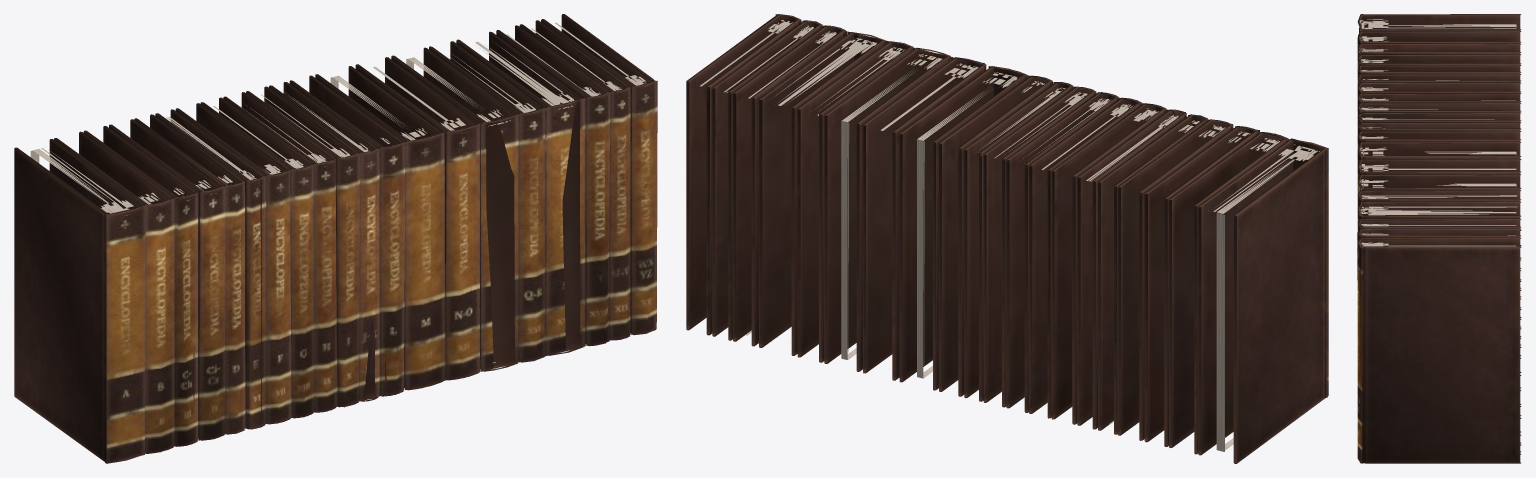
The model's file is book_encyclopedia_set_01_leve.gltf.
3 renders of one model, left to right at view 1: azimuth 30°, elevation 25°; view 2: azimuth 150°, elevation 25°; view 3: azimuth 270°, elevation 25°, orthographic. The views are drawn at different scales.
Parts seen in each view (by area): view 1: book_encyclopedia_set_01_book01, book_encyclopedia_set_01_book13, book_encyclopedia_set_01_book17, book_encyclopedia_set_01_book15, book_encyclopedia_set_01_book14, book_encyclopedia_set_01_book02, book_encyclopedia_set_01_book04, book_encyclopedia_set_01_book20, book_encyclopedia_set_01_book16, book_encyclopedia_set_01_book18, book_encyclopedia_set_01_book07, book_encyclopedia_set_01_book12 (+8 smaller); view 2: book_encyclopedia_set_01_book01, book_encyclopedia_set_01_book13, book_encyclopedia_set_01_book15, book_encyclopedia_set_01_book17, book_encyclopedia_set_01_book14, book_encyclopedia_set_01_book02, book_encyclopedia_set_01_book04, book_encyclopedia_set_01_book16, book_encyclopedia_set_01_book20, book_encyclopedia_set_01_book07, book_encyclopedia_set_01_book18, book_encyclopedia_set_01_book12 (+8 smaller); view 3: book_encyclopedia_set_01_book20, book_encyclopedia_set_01_book13, book_encyclopedia_set_01_book17, book_encyclopedia_set_01_book01, book_encyclopedia_set_01_book15, book_encyclopedia_set_01_book14, book_encyclopedia_set_01_book02, book_encyclopedia_set_01_book16, book_encyclopedia_set_01_book07, book_encyclopedia_set_01_book12, book_encyclopedia_set_01_book03, book_encyclopedia_set_01_book04 (+8 smaller).
Boxes of the visible parts, x1,y1,x2,y2 form: book_encyclopedia_set_01_book01: (14,139,145,463); book_encyclopedia_set_01_book13: (315,66,445,390); book_encyclopedia_set_01_book17: (456,31,585,356); book_encyclopedia_set_01_book15: (391,47,518,371); book_encyclopedia_set_01_book14: (355,57,480,380); book_encyclopedia_set_01_book02: (54,131,174,453); book_encyclopedia_set_01_book04: (109,119,225,440); book_encyclopedia_set_01_book20: (541,14,657,335); book_encyclopedia_set_01_book16: (429,41,544,362); book_encyclopedia_set_01_book18: (496,25,610,346); book_encyclopedia_set_01_book07: (175,103,291,424); book_encyclopedia_set_01_book12: (289,75,405,396); book_encyclopedia_set_01_book01: (1198,138,1328,463); book_encyclopedia_set_01_book13: (899,66,1028,390); book_encyclopedia_set_01_book15: (824,47,952,371); book_encyclopedia_set_01_book17: (759,31,888,355); book_encyclopedia_set_01_book14: (863,57,986,380); book_encyclopedia_set_01_book02: (1169,132,1289,454); book_encyclopedia_set_01_book04: (1117,119,1233,440); book_encyclopedia_set_01_book16: (797,41,914,362); book_encyclopedia_set_01_book20: (686,14,801,335); book_encyclopedia_set_01_book07: (1051,103,1167,424); book_encyclopedia_set_01_book18: (733,25,847,346); book_encyclopedia_set_01_book12: (939,75,1053,396); book_encyclopedia_set_01_book20: (1357,237,1521,463); book_encyclopedia_set_01_book13: (1357,141,1521,372); book_encyclopedia_set_01_book17: (1357,201,1521,432); book_encyclopedia_set_01_book01: (1357,14,1521,245); book_encyclopedia_set_01_book15: (1358,174,1521,404); book_encyclopedia_set_01_book14: (1358,159,1521,388); book_encyclopedia_set_01_book02: (1357,30,1521,258); book_encyclopedia_set_01_book16: (1358,190,1521,415); book_encyclopedia_set_01_book07: (1357,82,1521,308); book_encyclopedia_set_01_book12: (1357,131,1521,355); book_encyclopedia_set_01_book03: (1358,43,1521,268); book_encyclopedia_set_01_book04: (1358,54,1521,280).
Size of the model in its own units: 0.5529 by 0.2374 by 0.1639.
Materials: 2 (2 with a texture image).
